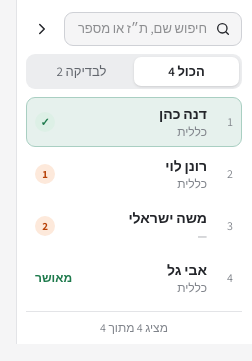
Test: FormList › filters to the forms that need review
expect the tab "הכול 4" is shown: met, box x1=134 y1=56 x2=239 y2=86
Click the tab "לבדיקה 2" at [82, 71], box x1=29 y1=56 x2=134 y2=86
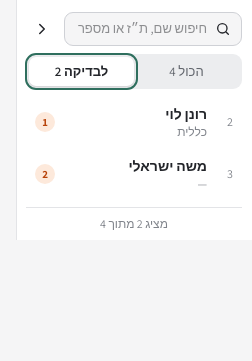
expect the button "2 רונן לוי כללית 1" is shown: met, box x1=26 y1=97 x2=242 y2=147
expect the button "דנה כהן" is gone: met
expect the text "מציג 2 מתוך 4" is shown: met, box x1=26 y1=207 x2=242 y2=240
